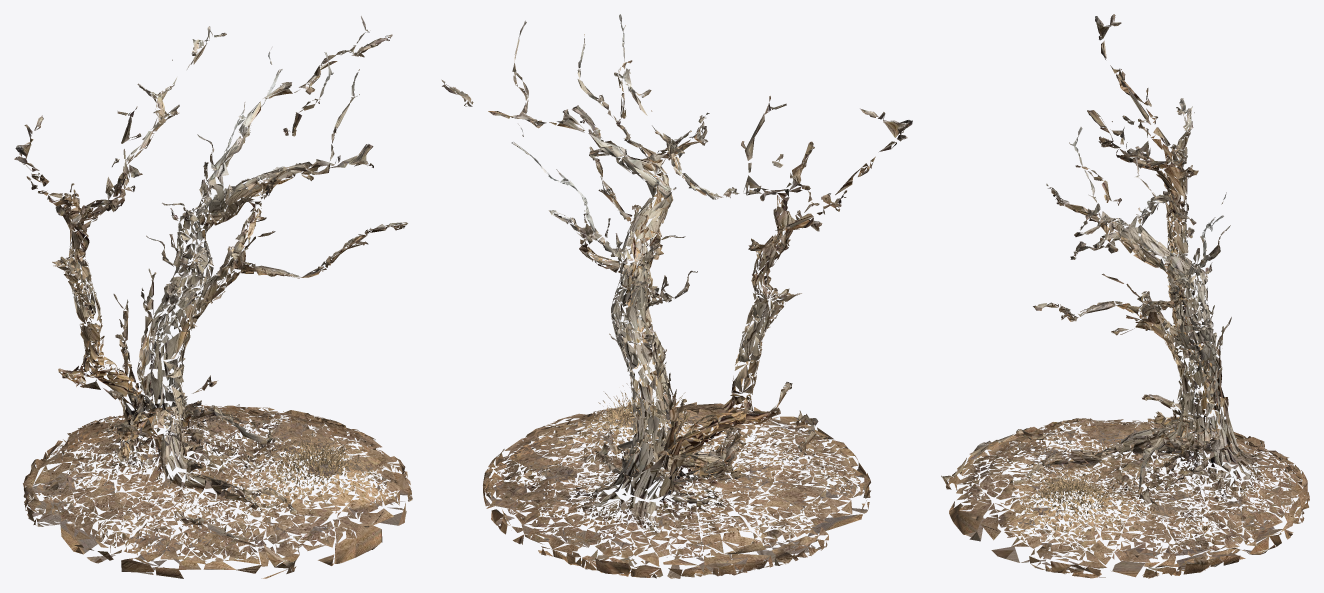
File: olu_col_agaci.gltf
3 renders of one model, left to right at view 1: azimuth 30°, elevation 25°; view 2: azimuth 150°, elevation 25°; view 3: azimuth 270°, elevation 25°, orthographic. The views are drawn at different scales.
Visible parts, largest first — view 1: olu_col_agaci; view 2: olu_col_agaci; view 3: olu_col_agaci.
Part boxes in pixels (x1,y1,x2,y2): olu_col_agaci: [14, 16, 412, 578]; olu_col_agaci: [441, 14, 912, 578]; olu_col_agaci: [941, 14, 1309, 578].
Bounding box in the file's own units: 4.48 × 4.51 × 3.63.
Materials: 1 (1 with a texture image).
